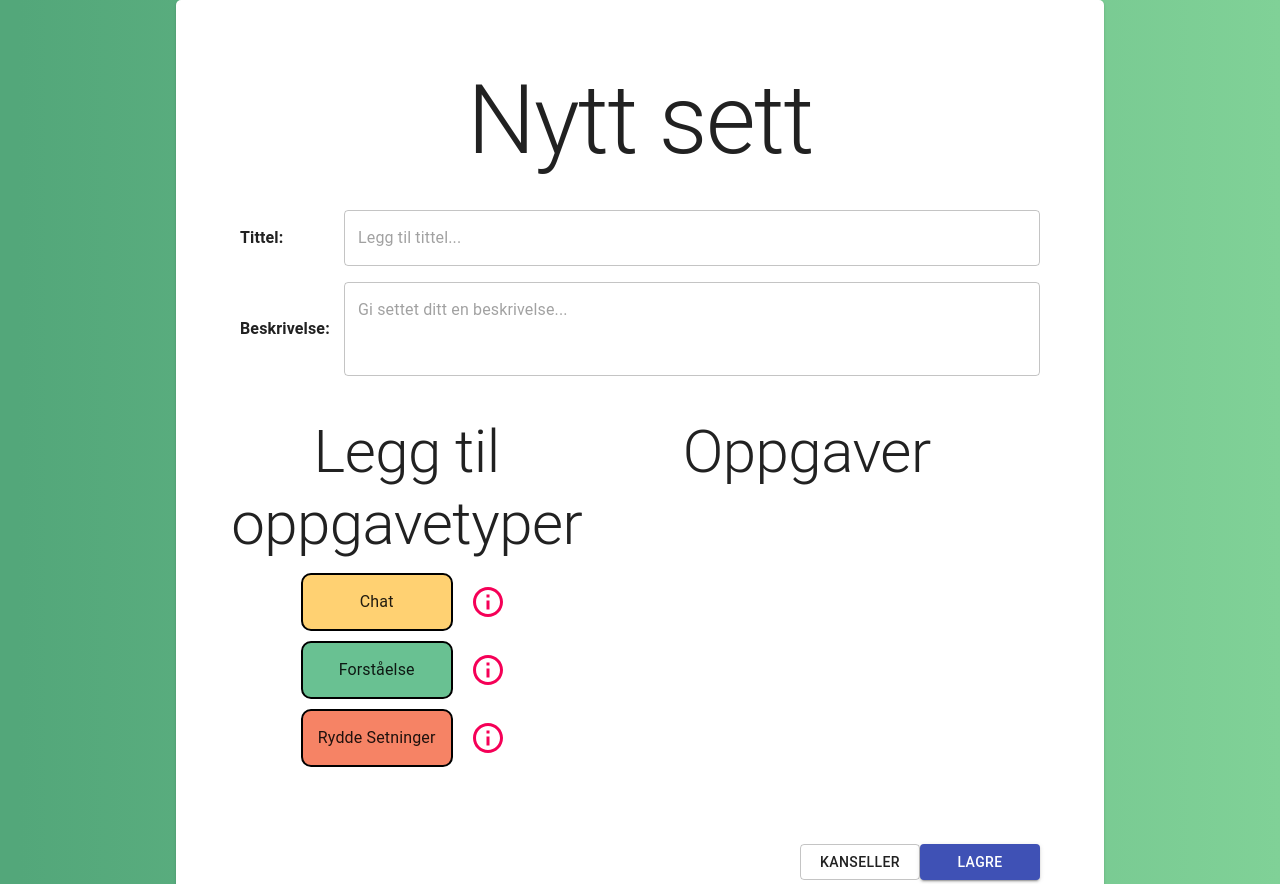
Test case: CreateExercises › error on empty set
Expected: the text "Lagre" is shown, [958,854,1003,870]
Click the button "Lagre" at (980, 862), box [920,844,1040,880]
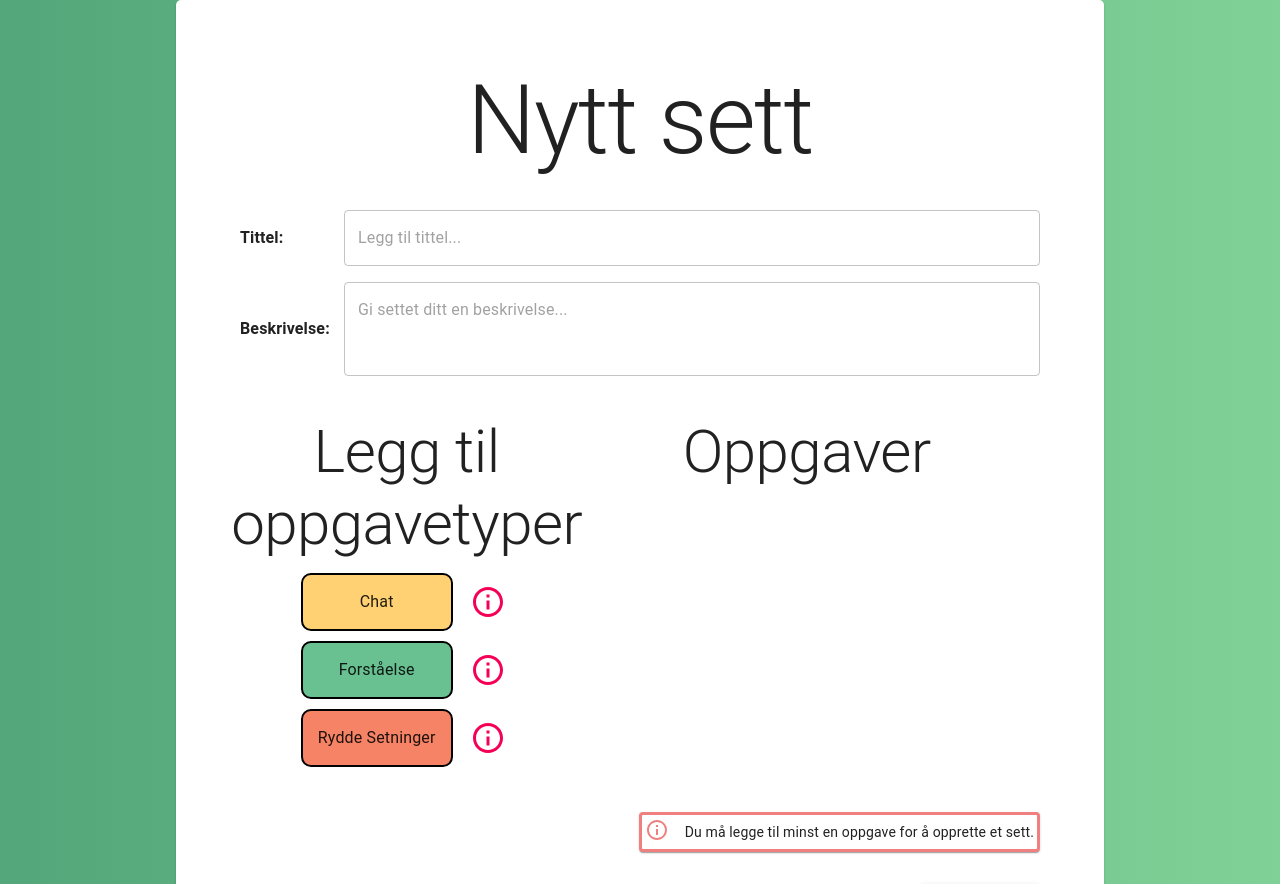
Result: the text "Du må legge til minst en oppgave for å opprette et sett." is shown at [685,822,1034,842]
